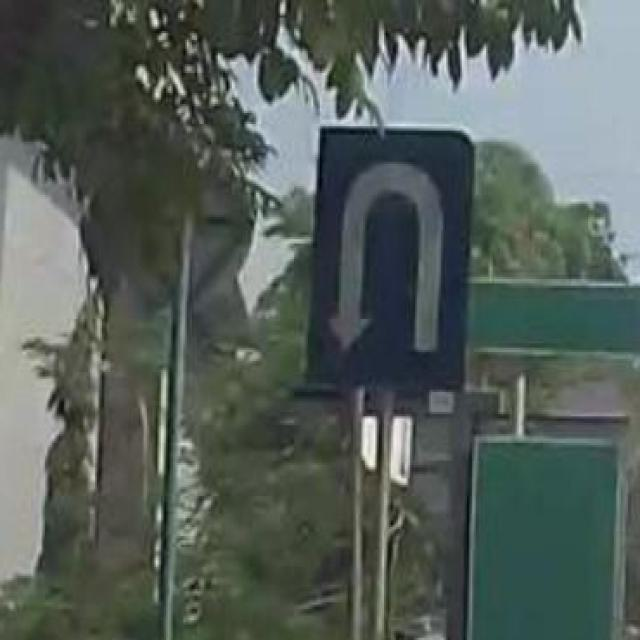U-turn: (309, 127, 462, 385)
